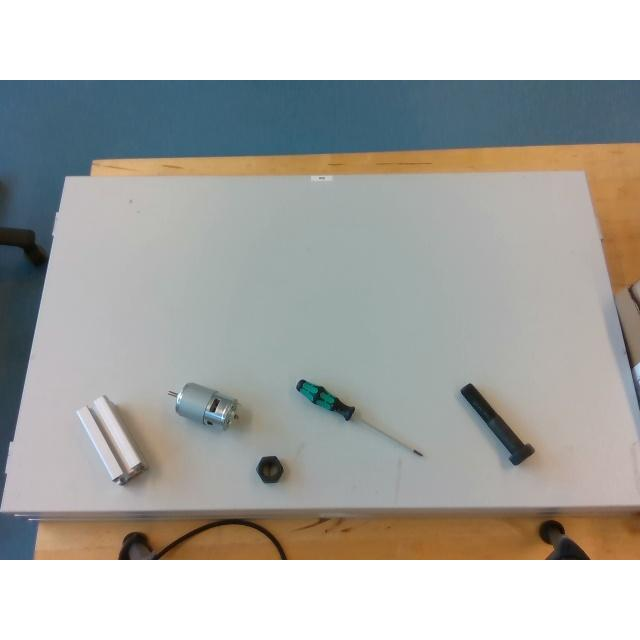M20: (258, 456, 282, 482)
M20_100: (460, 383, 534, 465)
Motor2: (168, 384, 236, 428)
S40_40_G: (76, 396, 148, 484)
Screwdriver: (296, 379, 424, 456)
